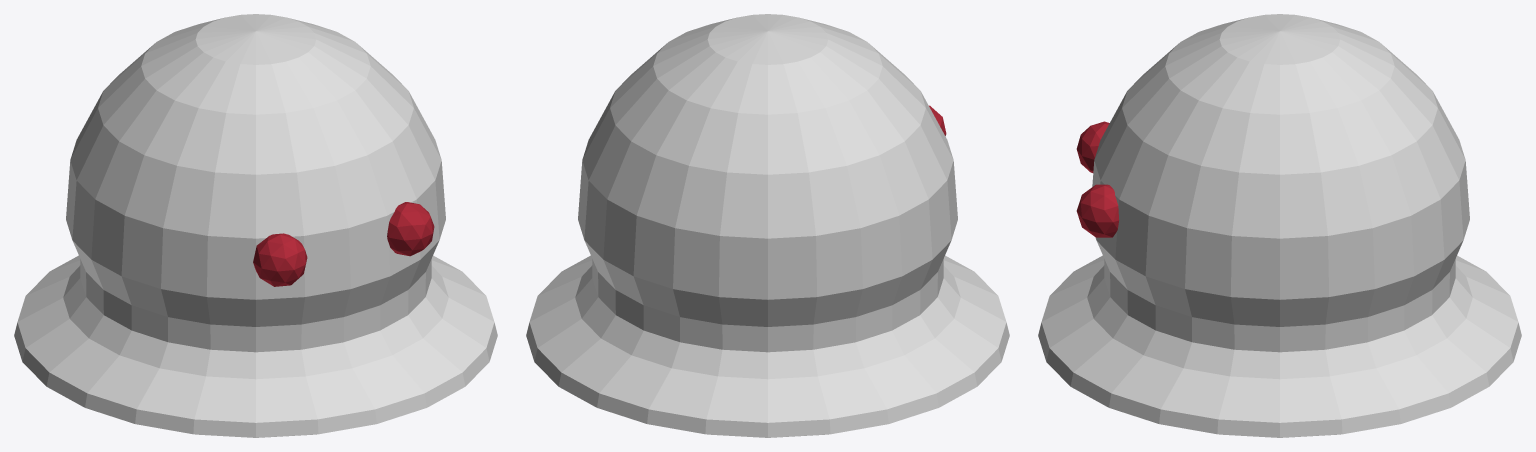
File: Slime de lava.fbx
The picture shows the model from 3 angles, left to right: view 1: azimuth 30°, elevation 25°; view 2: azimuth 150°, elevation 25°; view 3: azimuth 270°, elevation 25°; orthographic projection.
Parts seen in each view (by area): view 1: Slime; view 2: Slime; view 3: Slime.
Boxes of the visible parts, x1,y1,x2,y2 form: Slime: (14,14,497,437); Slime: (526,14,1009,437); Slime: (1038,14,1521,437).
Size of the model in its own units: 248 by 177 by 248.
